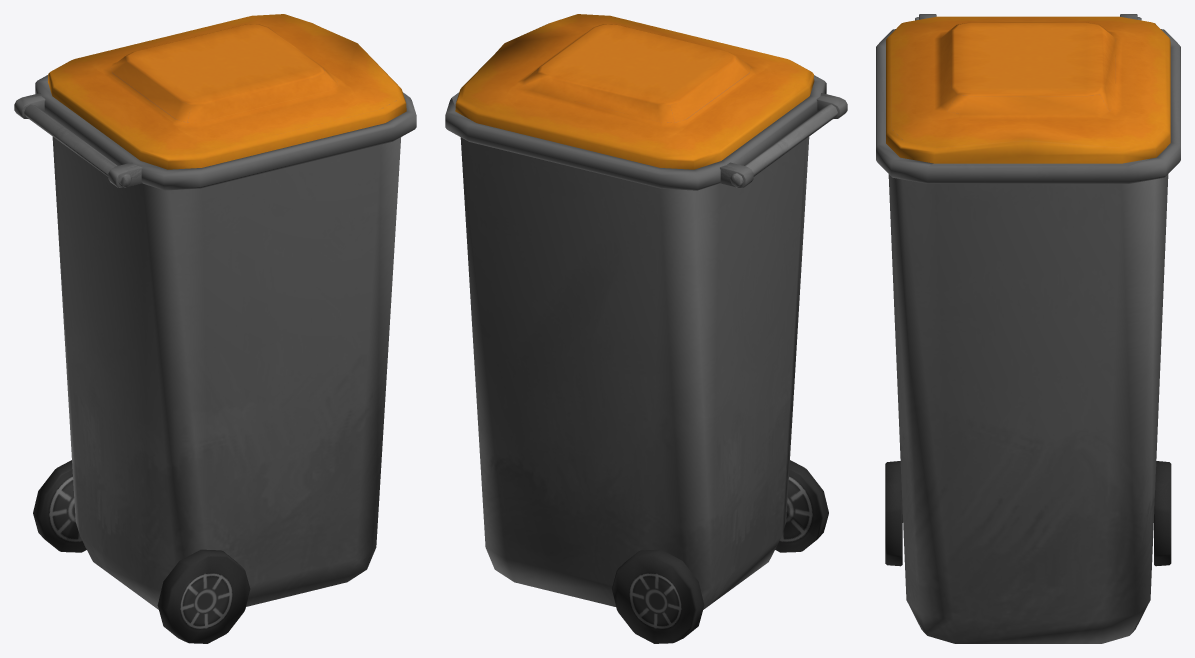
The model's file is o3_bidone_ruote.glb.
3 views of the same model, side by side, from view 1: azimuth 30°, elevation 25°; view 2: azimuth 150°, elevation 25°; view 3: azimuth 270°, elevation 25° (orthographic). The views are drawn at different scales.
Visible parts, largest first — view 1: sb_modello; view 2: sb_modello; view 3: sb_modello.
Part boxes in pixels (bbox=[...]): sb_modello: bbox=[14, 14, 416, 643]; sb_modello: bbox=[445, 14, 847, 643]; sb_modello: bbox=[876, 14, 1180, 643].
Size of the model in its own units: 0.6853 by 1.12 by 0.5656.
Materials: 3 (3 with a texture image).
